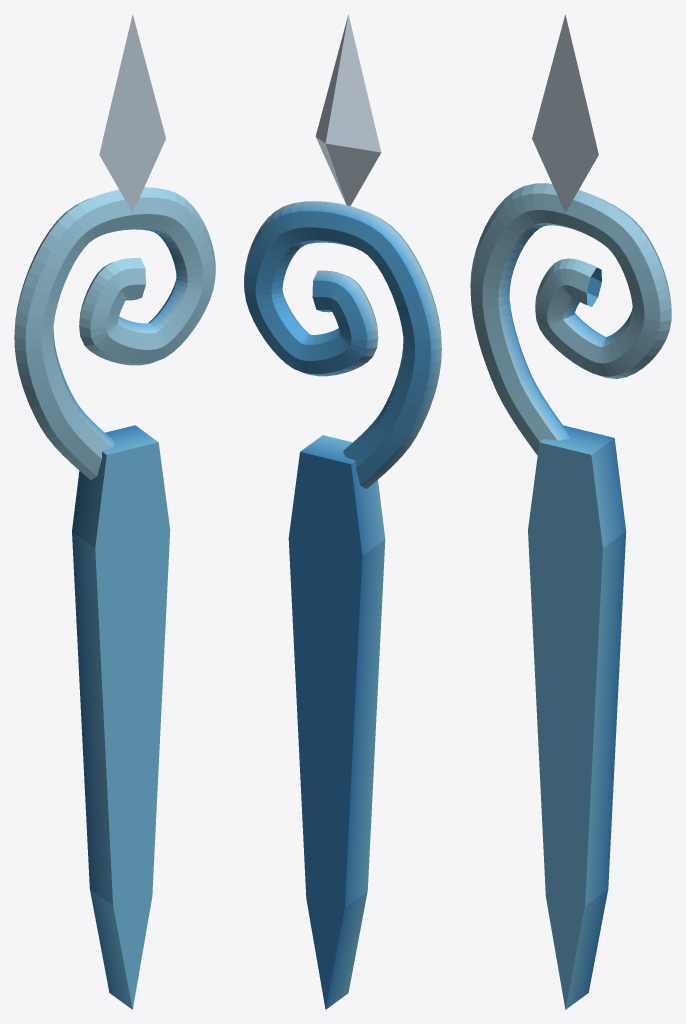
Rendered from Xingqiu_SwordRainVolley_ThreeStaggered_RainSwordWaterBody.fbx.
The picture shows the model from 3 angles, left to right: view 1: azimuth 30°, elevation 25°; view 2: azimuth 150°, elevation 25°; view 3: azimuth 330°, elevation 25°; orthographic projection.
Parts seen in each view (by area): view 1: PART_ThinRainSwordWaterBlade, PART_AuthoredRainSwordScrollWaterVolume, PART_RainSwordUpperWaterPoint; view 2: PART_ThinRainSwordWaterBlade, PART_AuthoredRainSwordScrollWaterVolume, PART_RainSwordUpperWaterPoint; view 3: PART_ThinRainSwordWaterBlade, PART_AuthoredRainSwordScrollWaterVolume, PART_RainSwordUpperWaterPoint.
Part boxes in pixels (x1=…): PART_ThinRainSwordWaterBlade: x1=72, y1=425, x2=170, y2=1009; PART_AuthoredRainSwordScrollWaterVolume: x1=14, y1=187, x2=215, y2=479; PART_RainSwordUpperWaterPoint: x1=99, y1=14, x2=165, y2=212; PART_ThinRainSwordWaterBlade: x1=288, y1=435, x2=385, y2=1009; PART_AuthoredRainSwordScrollWaterVolume: x1=244, y1=201, x2=441, y2=488; PART_RainSwordUpperWaterPoint: x1=315, y1=14, x2=381, y2=205; PART_ThinRainSwordWaterBlade: x1=528, y1=425, x2=626, y2=1009; PART_AuthoredRainSwordScrollWaterVolume: x1=470, y1=183, x2=671, y2=455; PART_RainSwordUpperWaterPoint: x1=532, y1=14, x2=598, y2=212.
Size of the model in its own units: 34.89 by 165 by 7.
